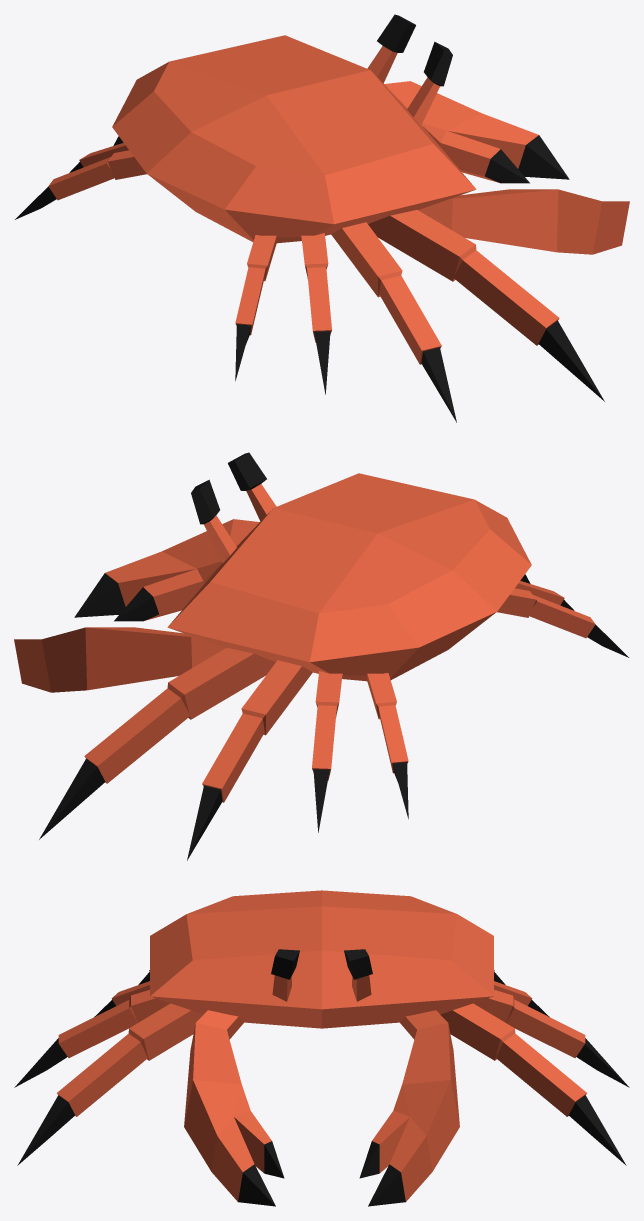
Rendered from lowpolycrab.glb.
The picture shows the model from 3 angles, top to bottom: view 1: azimuth 30°, elevation 25°; view 2: azimuth 150°, elevation 25°; view 3: azimuth 270°, elevation 25°; orthographic projection. The views are drawn at different scales.
Parts seen in each view (by area): view 1: Cube; view 2: Cube; view 3: Cube.
Boxes of the visible parts, left/top/right/bottom form: Cube: left=15, top=14, right=629, bottom=422; Cube: left=14, top=452, right=628, bottom=860; Cube: left=14, top=890, right=629, bottom=1206.
Bounding box in the file's own units: 4.83 × 2.39 × 6.28.
